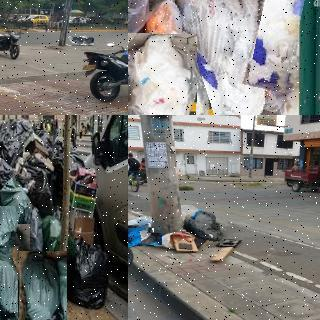Garbage: (173, 0, 272, 115), (233, 0, 305, 91), (128, 33, 196, 115), (0, 221, 37, 320), (63, 234, 111, 310), (17, 251, 67, 320), (143, 0, 199, 42), (0, 176, 36, 234), (183, 208, 228, 241), (43, 213, 68, 257), (0, 204, 18, 260), (128, 225, 154, 248), (141, 233, 162, 245), (83, 37, 94, 46), (72, 38, 84, 45), (68, 37, 77, 45), (79, 35, 88, 40)
